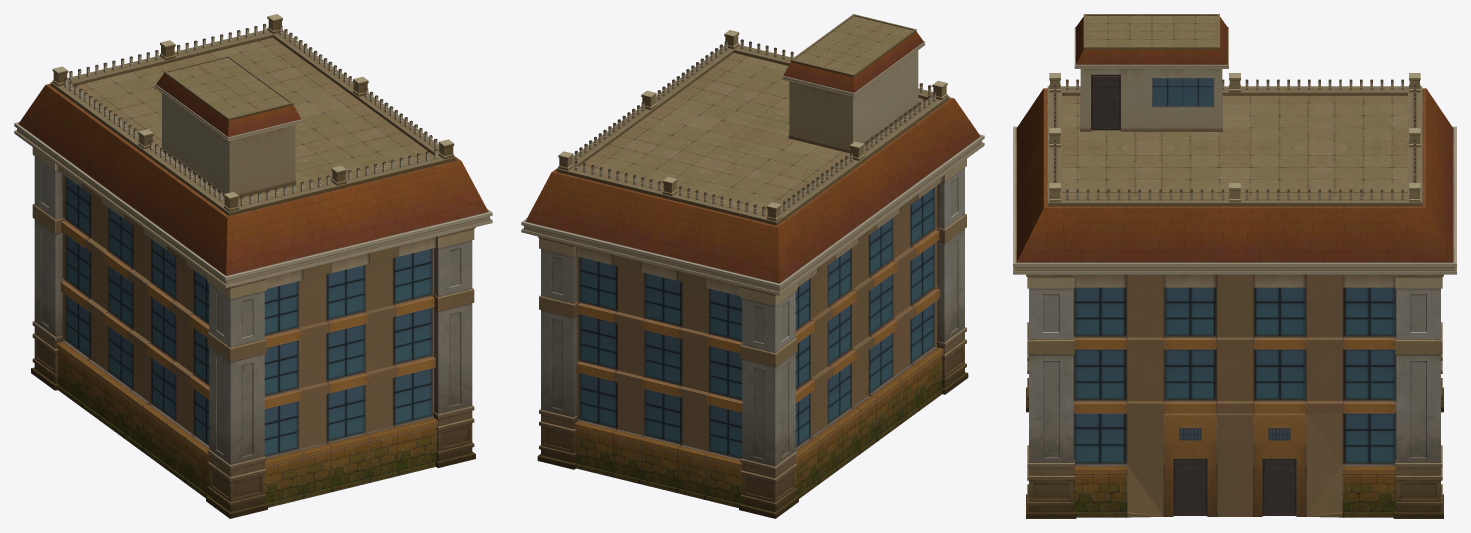
Rendered from sc_qqnm_jz006_1_um.fbx.
3 renders of one model, left to right at view 1: azimuth 30°, elevation 25°; view 2: azimuth 150°, elevation 25°; view 3: azimuth 270°, elevation 25°, orthographic. The views are drawn at different scales.
Parts seen in each view (by area): view 1: qqnm_jz006_1; view 2: qqnm_jz006_1; view 3: qqnm_jz006_1.
Part boxes in pixels (x1,y1,x2,y2): qqnm_jz006_1: [14, 14, 492, 518]; qqnm_jz006_1: [521, 14, 984, 518]; qqnm_jz006_1: [1013, 14, 1456, 518].
Size of the model in its own units: 1194 by 1595 by 1636.
